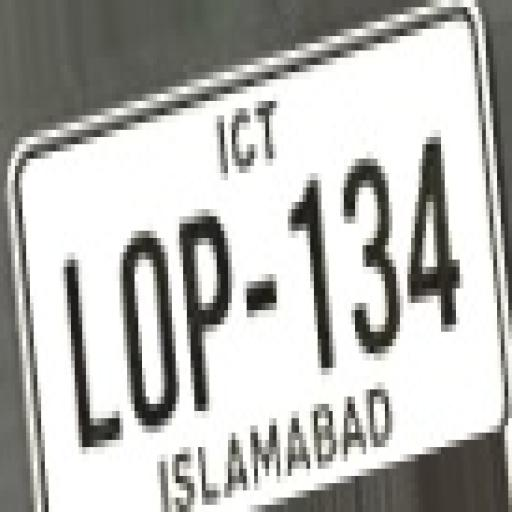1: (285, 186, 332, 376)
3: (341, 154, 397, 359)
4: (396, 122, 462, 348)
L: (62, 258, 121, 445)
O: (118, 230, 170, 421)
P: (172, 218, 231, 420)
